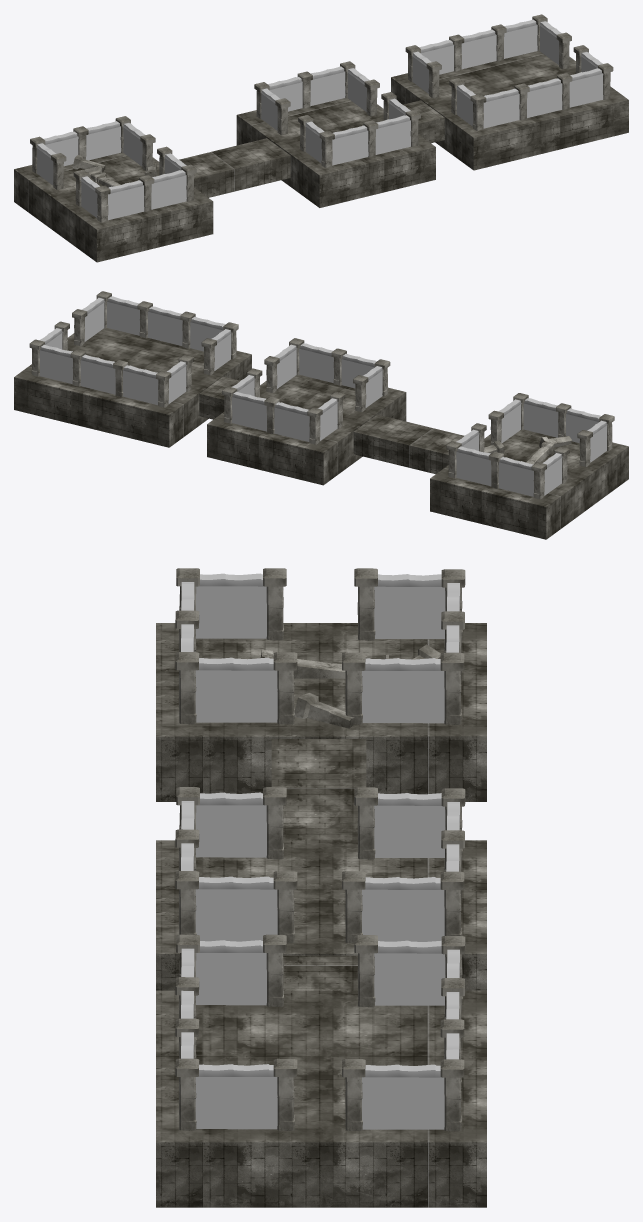
The model's file is Tutorial Level.fbx.
The picture shows the model from 3 angles, top to bottom: view 1: azimuth 30°, elevation 25°; view 2: azimuth 150°, elevation 25°; view 3: azimuth 270°, elevation 25°; orthographic projection. The views are drawn at different scales.
Visible parts, largest first — view 1: Levels_Base1 (×3), Levels_Bridge_ish, Levels_Wall4 (×3), Levels_Wall (×3), Levels_Wall6 (×3), Levels_Wall9 (×3), Levels_Wall5 (×3), Levels_Wall7 (×3), Levels_Wall8 (×3), Levels_Pillar4 (×3), Levels_Pillar8 (×3), Levels_Pillar5 (×3) (+4 smaller); view 2: Levels_Base1 (×3), Levels_Bridge_ish, Levels_Wall9 (×3), Levels_Wall6 (×3), Levels_Wall (×3), Levels_Wall4 (×3), Levels_Wall2 (×3), Levels_Wall7 (×3), Levels_Wall8 (×3), Levels_Pillar7 (×3), Levels_Pillar9 (×3), Levels_pillar3 (×3) (+5 smaller); view 3: Levels_Base1 (×3), Levels_Wall5 (×3), Levels_Wall2 (×3), Levels_Wall8 (×3), Levels_Wall7 (×3), Levels_Bridge_ish, Levels_Pillar8 (×3), Levels_Pillar9 (×3), Levels_pillar3 (×3), Levels_Pillar5 (×3), Levels_Bridge_ish1, Levels_Pillar10 (×2) (+5 smaller).
Boxes of the visible parts, bbox=[...] form: Levels_Base1 (×3): bbox=[14, 51, 628, 262]; Levels_Bridge_ish: bbox=[179, 138, 290, 197]; Levels_Wall4 (×3): bbox=[108, 88, 519, 220]; Levels_Wall (×3): bbox=[151, 78, 562, 209]; Levels_Wall6 (×3): bbox=[86, 29, 496, 160]; Levels_Wall9 (×3): bbox=[43, 40, 453, 166]; Levels_Wall5 (×3): bbox=[123, 21, 561, 166]; Levels_Wall7 (×3): bbox=[36, 51, 431, 185]; Levels_Wall8 (×3): bbox=[80, 84, 475, 217]; Levels_Pillar4 (×3): bbox=[95, 94, 486, 222]; Levels_Pillar8 (×3): bbox=[51, 61, 441, 189]; Levels_Pillar5 (×3): bbox=[140, 32, 571, 171]; Levels_Base1 (×3): bbox=[14, 328, 628, 539]; Levels_Bridge_ish: bbox=[353, 414, 464, 474]; Levels_Wall9 (×3): bbox=[123, 365, 533, 496]; Levels_Wall6 (×3): bbox=[80, 354, 491, 486]; Levels_Wall (×3): bbox=[147, 306, 558, 437]; Levels_Wall4 (×3): bbox=[190, 316, 600, 443]; Levels_Wall2 (×3): bbox=[81, 297, 521, 442]; Levels_Wall7 (×3): bbox=[167, 361, 562, 495]; Levels_Wall8 (×3): bbox=[211, 329, 607, 462]; Levels_Pillar7 (×3): bbox=[156, 370, 546, 499]; Levels_Pillar9 (×3): bbox=[201, 338, 592, 466]; Levels_pillar3 (×3): bbox=[72, 309, 503, 445]; Levels_Base1 (×3): bbox=[156, 623, 486, 1207]; Levels_Wall5 (×3): bbox=[362, 658, 444, 1129]; Levels_Wall2 (×3): bbox=[195, 657, 277, 1129]; Levels_Wall8 (×3): bbox=[196, 573, 266, 1005]; Levels_Wall7 (×3): bbox=[374, 574, 445, 1005]; Levels_Bridge_ish: bbox=[271, 739, 366, 840]; Levels_Pillar8 (×3): bbox=[354, 568, 377, 1007]; Levels_Pillar9 (×3): bbox=[263, 568, 286, 1006]; Levels_pillar3 (×3): bbox=[273, 652, 297, 1130]; Levels_Pillar5 (×3): bbox=[342, 652, 365, 1130]; Levels_Bridge_ish1: bbox=[283, 955, 357, 990]; Levels_Pillar10 (×2): bbox=[440, 652, 464, 935].
Size of the model in its own units: 99.52 by 11.65 by 26.83.
